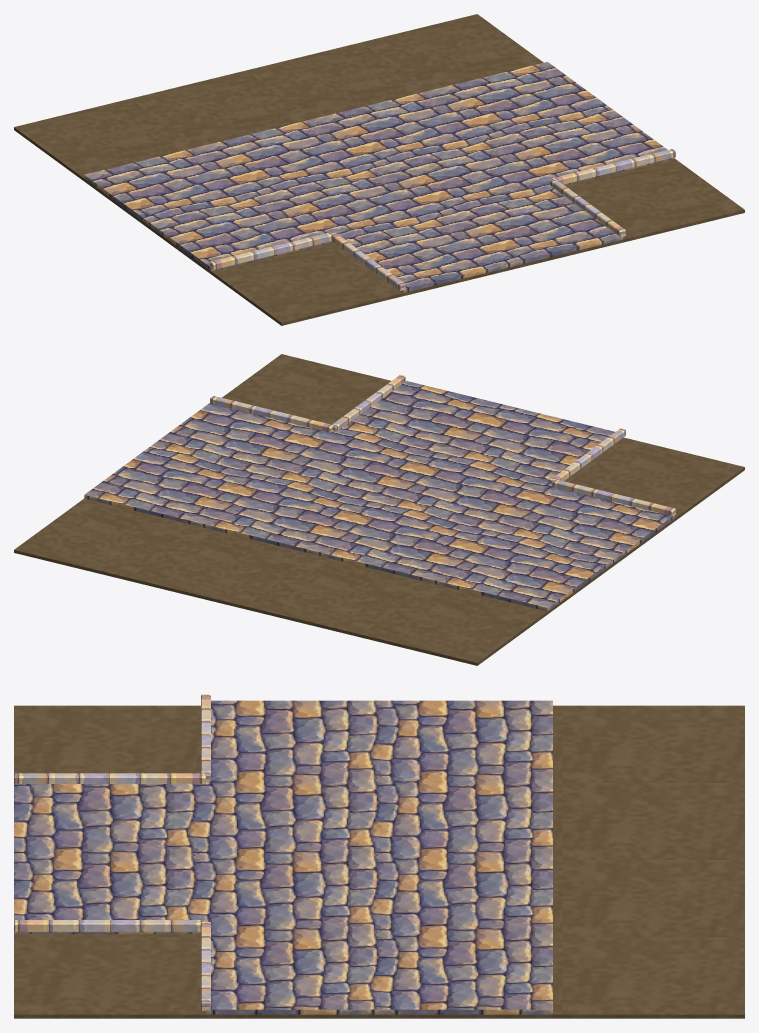
The model's file is Road_T.fbx.
3 views of the same model, one above another, from view 1: azimuth 30°, elevation 25°; view 2: azimuth 150°, elevation 25°; view 3: azimuth 270°, elevation 25° (orthographic). The views are drawn at different scales.
Visible parts, largest first — view 1: Road_T.001; view 2: Road_T.001; view 3: Road_T.001.
Part boxes in pixels (x1,y1,x2,y2): Road_T.001: (14, 14, 744, 325); Road_T.001: (14, 354, 744, 665); Road_T.001: (14, 694, 744, 1018).
Bounding box in the file's own units: 800 × 19.5 × 800.
Materials: 3 (3 with a texture image).
